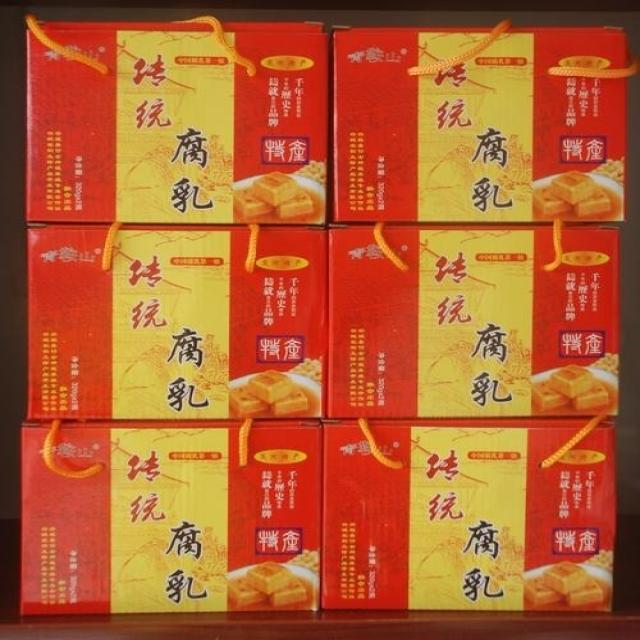box: (26, 21, 329, 227), (27, 222, 328, 420), (329, 23, 626, 223), (19, 420, 323, 615), (323, 417, 618, 613), (328, 222, 621, 419)
